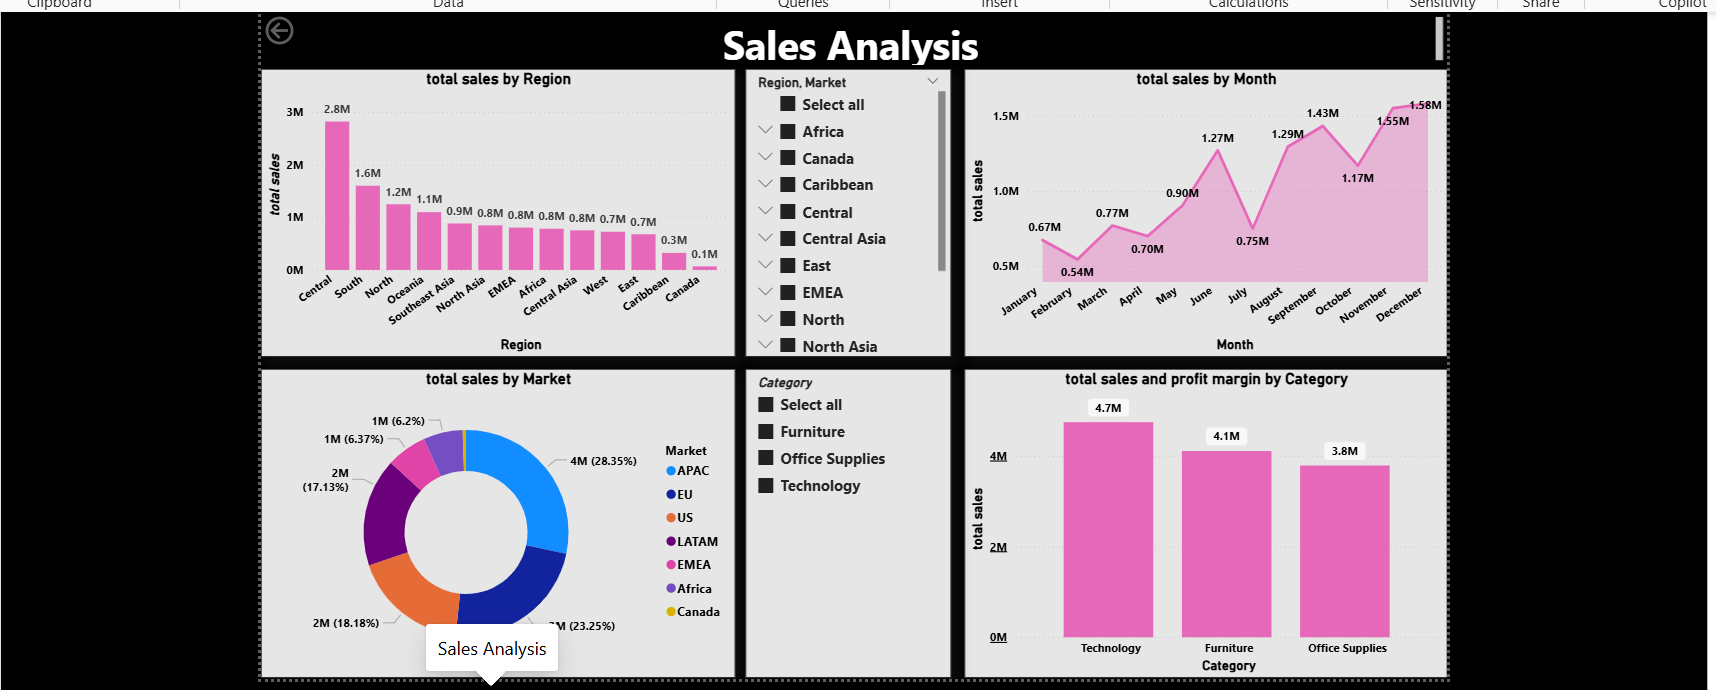

The page's visual inventory and layout, read from the dashboard file:
{"tool":"powerbi","page":{"name":"Sales Analysis","canvas":[1280,720],"ordinal":1},"visuals":[{"type":"textbox","box":[0,0,1280.8,61.5],"z":0},{"type":"clusteredColumnChart","fields":{"Category":["DataAnalysis_Retail3.Region"],"Y":["DataAnalysis_Retail3.total sales"]},"box":[0,61.5,511.7,310.9],"z":1000},{"type":"donutChart","fields":{"Category":["DataAnalysis_Retail3.Market"],"Y":["DataAnalysis_Retail3.total sales"]},"box":[0,385.4,511.7,333.6],"z":2000},{"type":"lineChart","fields":{"Category":["DataAnalysis_Retail3.Order_Date.Variation.Date Hierarchy.Month"],"Y":["DataAnalysis_Retail3.total sales"]},"box":[759.4,61.5,521.4,310.9],"z":3000},{"type":"lineClusteredColumnComboChart","fields":{"Category":["DataAnalysis_Retail3.Category"],"Y":["DataAnalysis_Retail3.total sales"]},"box":[759.4,385.4,521.4,333.6],"z":4000},{"type":"slicer","fields":{"Values":["DataAnalysis_Retail3.Region","DataAnalysis_Retail3.Market"]},"box":[523,61.5,221.8,310.9],"z":9000},{"type":"slicer","fields":{"Values":["DataAnalysis_Retail3.Category"]},"box":[523,385.4,221.8,333.6],"z":10000},{"type":"actionButton","box":[0,0,100,40],"z":11000}]}

Visuals, with their boxes on the page's 1280x720 design canvas (x1, y1, x2, y2). These are canvas units, not pixel positions in the 1716x690 screenshot, which may show the page scaled, cropped or inside an application window:
textbox: locate(0, 0, 1281, 62)
clusteredColumnChart - DataAnalysis_Retail3.Region x DataAnalysis_Retail3.total sales: locate(0, 62, 512, 372)
donutChart - DataAnalysis_Retail3.Market x DataAnalysis_Retail3.total sales: locate(0, 385, 512, 719)
lineChart - DataAnalysis_Retail3.Order_Date.Variation.Date Hierarchy.Month x DataAnalysis_Retail3.total sales: locate(759, 62, 1281, 372)
lineClusteredColumnComboChart - DataAnalysis_Retail3.Category x DataAnalysis_Retail3.total sales: locate(759, 385, 1281, 719)
slicer - DataAnalysis_Retail3.Region x DataAnalysis_Retail3.Market: locate(523, 62, 745, 372)
slicer - DataAnalysis_Retail3.Category: locate(523, 385, 745, 719)
actionButton: locate(0, 0, 100, 40)
